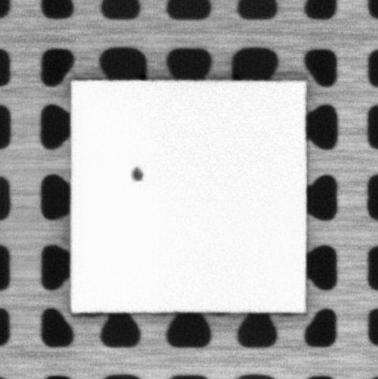DIE_INK: (130, 163, 144, 183)
